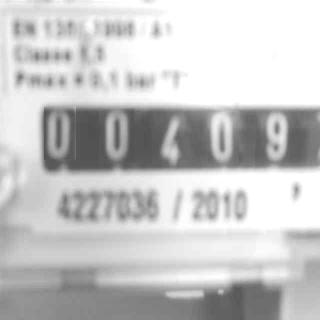1: (99, 109, 134, 163), (44, 107, 76, 160), (209, 111, 240, 164)
5: (157, 111, 187, 169)
:: (259, 108, 291, 164)
